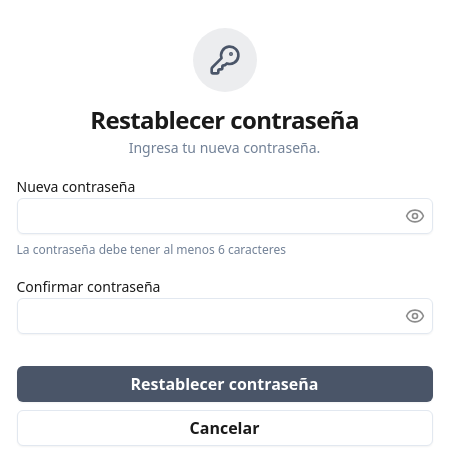
reset password field errors › marks the confirmation invalid and describes why when the passwords differ
Type "clave-nueva-larga" into the password field labelled "Nueva contraseña". click: (224, 216)
box: [16,198,432,234]
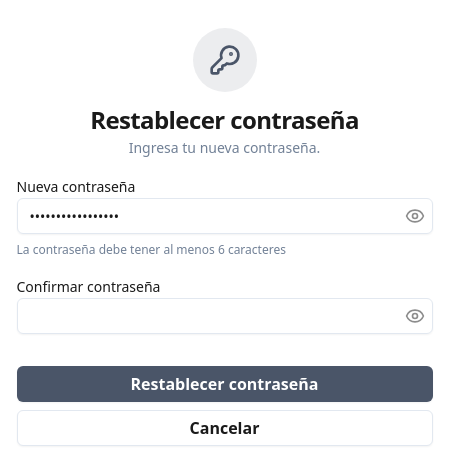
Type "otra-clave-larga" into the password field labelled "Confirmar contraseña". click: (224, 316)
box: [16,298,432,334]
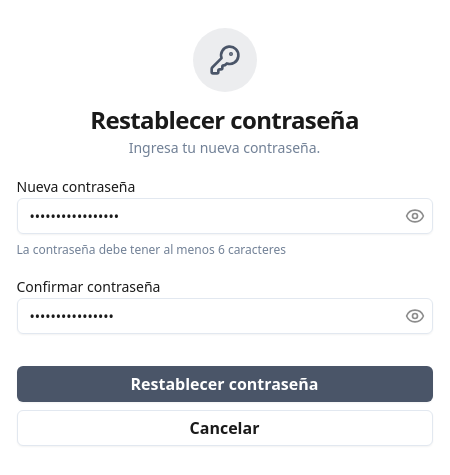
Click the button "Restablecer contraseña". click: (224, 384)
box: [16,366,432,402]
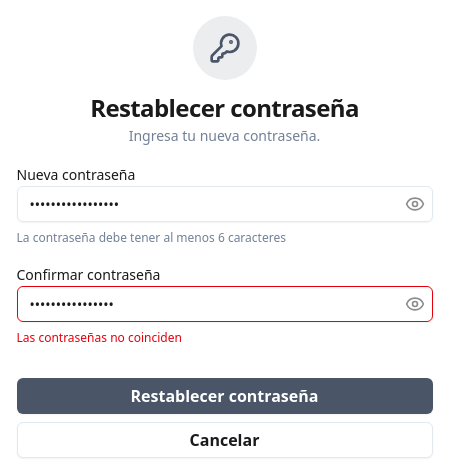
Check: the password field labelled "Confirmar contraseña" is marked as invalid, box [16,286,432,322]
